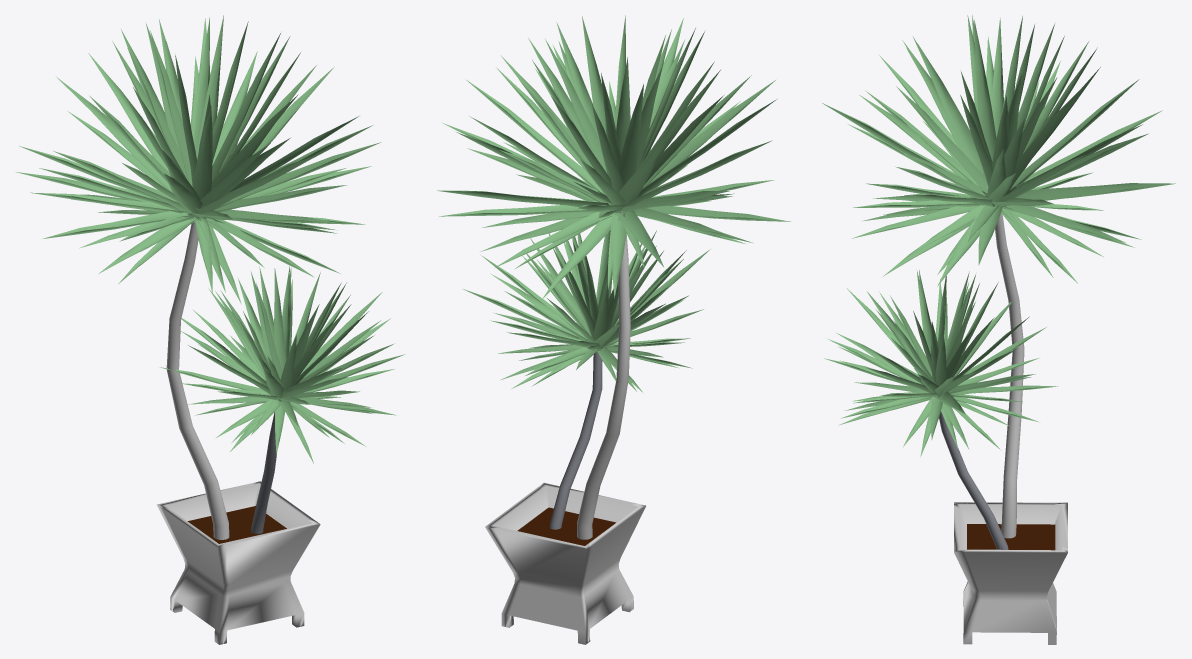
File: loft_yucca.obj
The picture shows the model from 3 angles, left to right: view 1: azimuth 30°, elevation 25°; view 2: azimuth 150°, elevation 25°; view 3: azimuth 270°, elevation 25°; orthographic projection. The views are drawn at different scales.
Parts seen in each view (by area): view 1: Spike_plant_1_Plane.1071, Spike_plant_2_Plane.1169, Pot_1_Plane.1171, Spike_trunk_2_Cylinder, Rock_0_Sphere.000, Spike_trunk_1_Cylinder.001; view 2: Spike_plant_1_Plane.1071, Pot_1_Plane.1171, Spike_plant_2_Plane.1169, Spike_trunk_2_Cylinder, Spike_trunk_1_Cylinder.001, Rock_0_Sphere.000; view 3: Spike_plant_1_Plane.1071, Spike_plant_2_Plane.1169, Pot_1_Plane.1171, Spike_trunk_2_Cylinder, Rock_0_Sphere.000, Spike_trunk_1_Cylinder.001.
Part boxes in pixels (x1,y1,x2,y2): Spike_plant_1_Plane.1071: [16, 15, 381, 304]; Spike_plant_2_Plane.1169: [160, 266, 404, 463]; Pot_1_Plane.1171: [156, 481, 320, 644]; Spike_trunk_2_Cylinder: [166, 222, 229, 539]; Rock_0_Sphere.000: [187, 506, 286, 543]; Spike_trunk_1_Cylinder.001: [251, 401, 281, 533]; Spike_plant_1_Plane.1071: [437, 15, 790, 299]; Pot_1_Plane.1171: [485, 482, 645, 644]; Spike_plant_2_Plane.1169: [463, 230, 710, 392]; Spike_trunk_2_Cylinder: [577, 212, 630, 539]; Spike_trunk_1_Cylinder.001: [549, 352, 602, 529]; Rock_0_Sphere.000: [517, 507, 615, 545]; Spike_plant_1_Plane.1071: [822, 15, 1175, 286]; Spike_plant_2_Plane.1169: [824, 269, 1058, 457]; Pot_1_Plane.1171: [954, 502, 1067, 644]; Spike_trunk_2_Cylinder: [995, 213, 1024, 538]; Rock_0_Sphere.000: [967, 524, 1055, 550]; Spike_trunk_1_Cylinder.001: [938, 397, 1008, 549].
Bounding box in the file's own units: 108 × 181 × 103.
